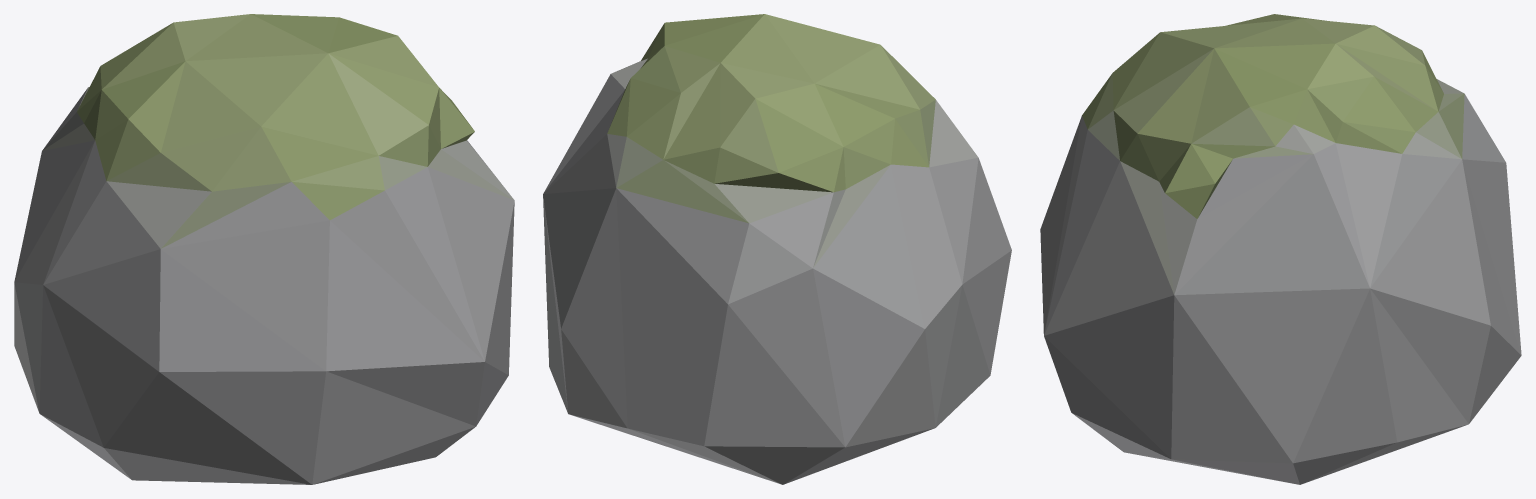
The model's file is rock.glb.
3 views of the same model, side by side, from view 1: azimuth 30°, elevation 25°; view 2: azimuth 150°, elevation 25°; view 3: azimuth 270°, elevation 25° (orthographic). The views are drawn at different scales.
Parts seen in each view (by area): view 1: scenery; view 2: scenery; view 3: scenery.
Part boxes in pixels (x1,y1,x2,y2): scenery: [14, 14, 514, 484]; scenery: [543, 14, 1011, 484]; scenery: [1040, 14, 1521, 484].
Size of the model in its own units: 1.16 by 1 by 1.16.
